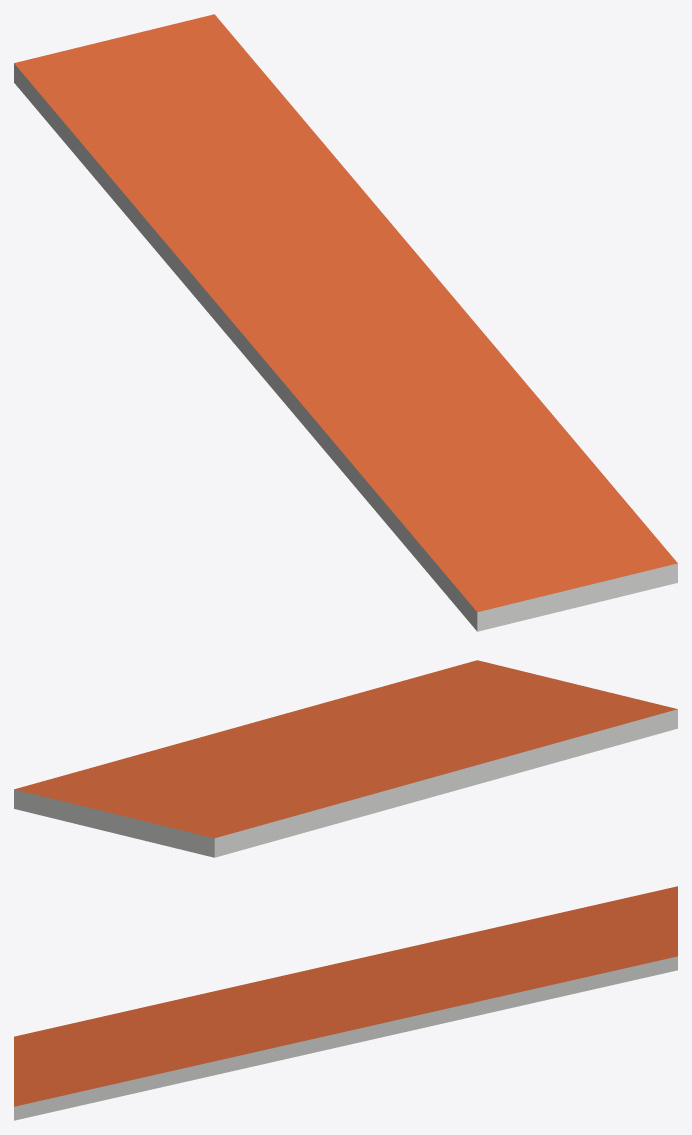
Rendered from telhado_meia_agua_v4_i25_1m.glb.
The picture shows the model from 3 angles, top to bottom: view 1: azimuth 30°, elevation 25°; view 2: azimuth 150°, elevation 25°; view 3: azimuth 270°, elevation 25°; orthographic projection. The views are drawn at different scales.
Visible parts, largest first — view 1: telhado_meia_agua_v4_i25_1m; view 2: telhado_meia_agua_v4_i25_1m; view 3: telhado_meia_agua_v4_i25_1m.
Boxes of the visible parts, bbox=[...] form: telhado_meia_agua_v4_i25_1m: bbox=[14, 14, 677, 631]; telhado_meia_agua_v4_i25_1m: bbox=[14, 660, 677, 857]; telhado_meia_agua_v4_i25_1m: bbox=[14, 886, 677, 1120].
Bounding box in the file's own units: 1 × 1.09 × 4.
